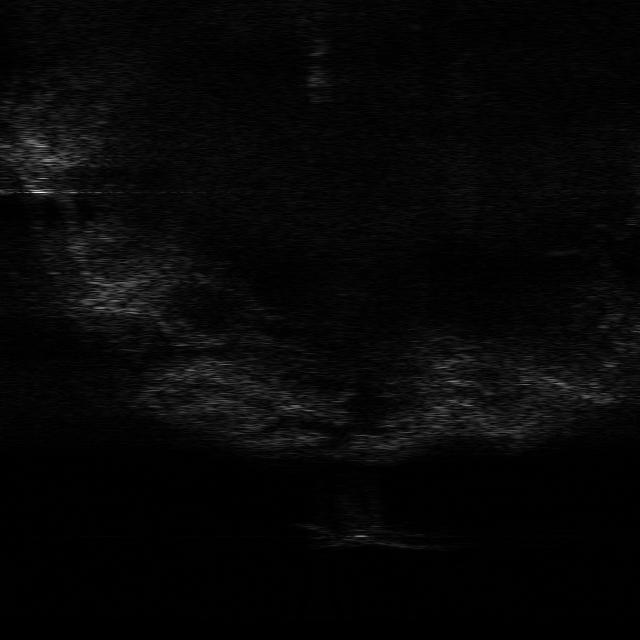plane: (298, 518, 430, 550)
